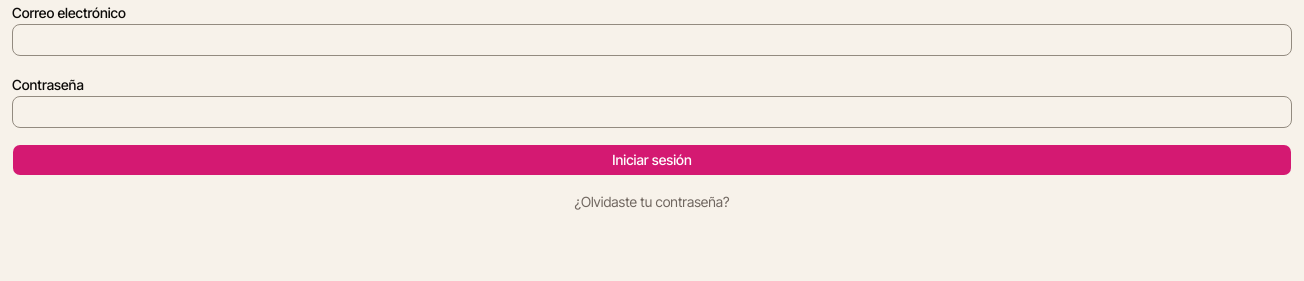
Test: LoginForm rate limit › wrong password shows the credentials error without locking
The width and height of the screenshot is (1304, 281).
Type "ana@example.com" into the field labelled "Correo electrónico".
click(652, 40); type("ana@example.com")  # box [12, 24, 1292, 56]
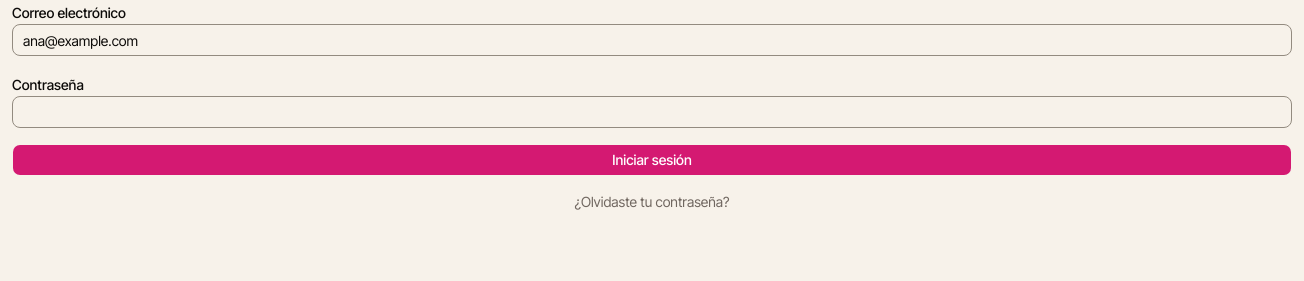
Type "secreta123" into the password field labelled "Contraseña".
click(652, 112); type("secreta123")  # box [12, 96, 1292, 128]
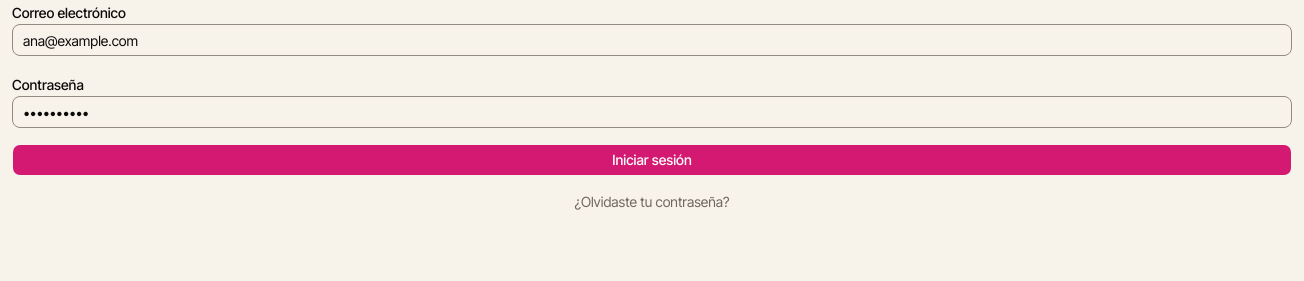
Click the button "Iniciar sesión".
click(652, 160)  # box [12, 144, 1292, 176]
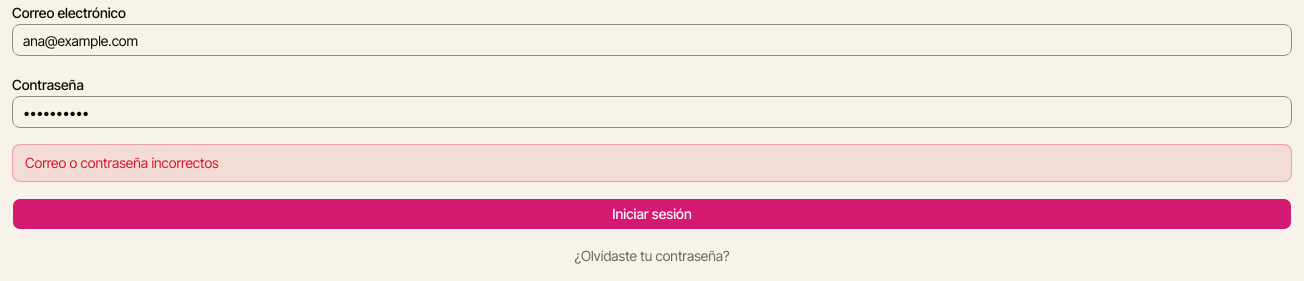
Expected: the button "Iniciar sesión" is enabled, [12, 198, 1292, 230]
Expected: the message reads "Correo o contraseña incorrectos", [25, 154, 219, 171]
